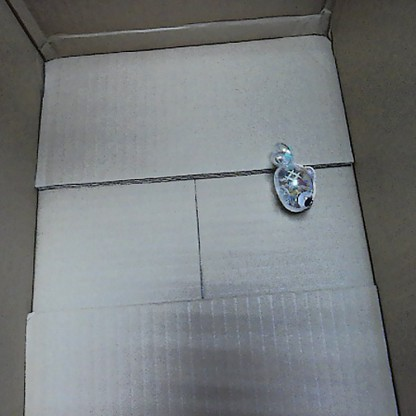whitefish: (262, 135, 319, 217)
